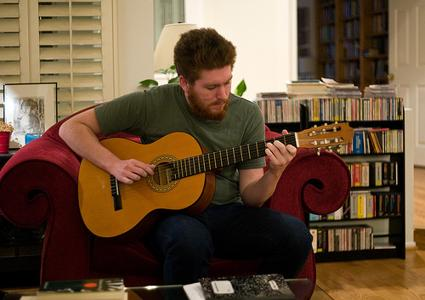person: (59, 28, 315, 280)
